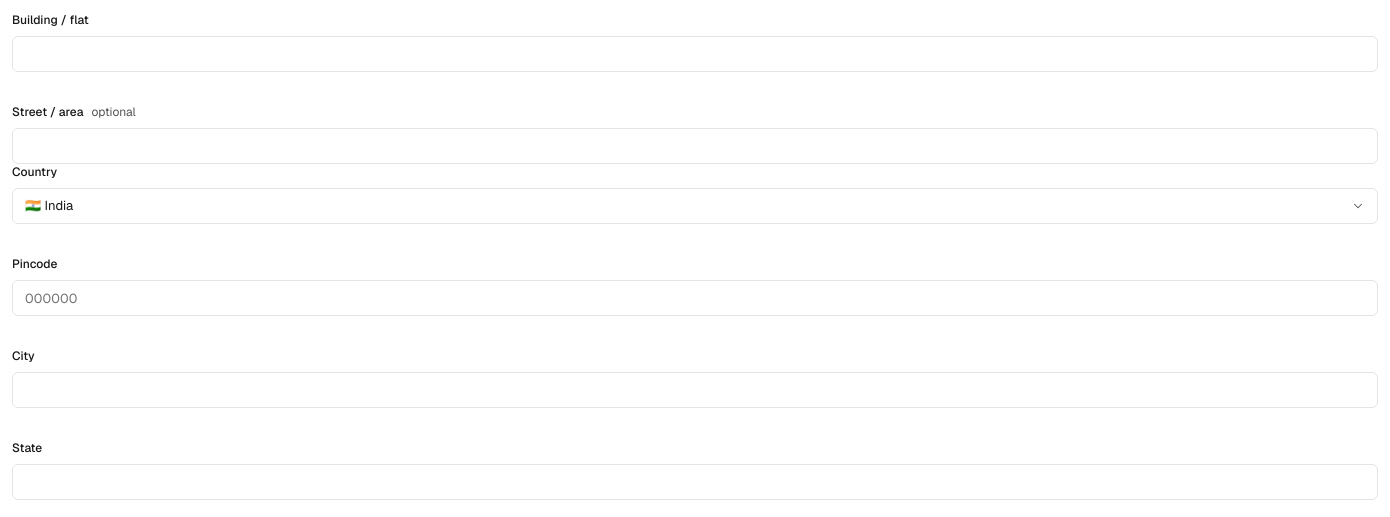
Test: AddressFields › explains the lock through a focusable icon and a live region
Step 1. Type "201017" into the field labelled "Pincode" → (695, 298), box top-left (12, 280), bottom-right (1378, 316)
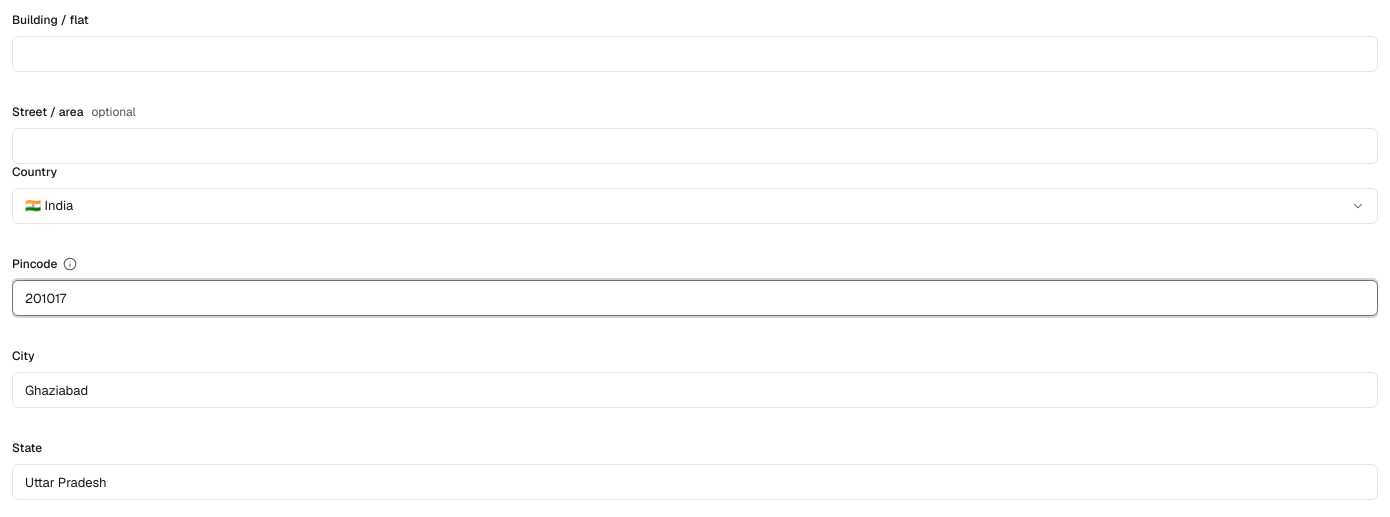
Expected: the button named "why are city and state locked" is shown, top-left (63, 257), bottom-right (77, 271)
